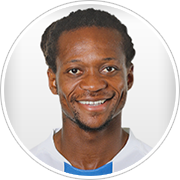face: (44, 44, 135, 122)
